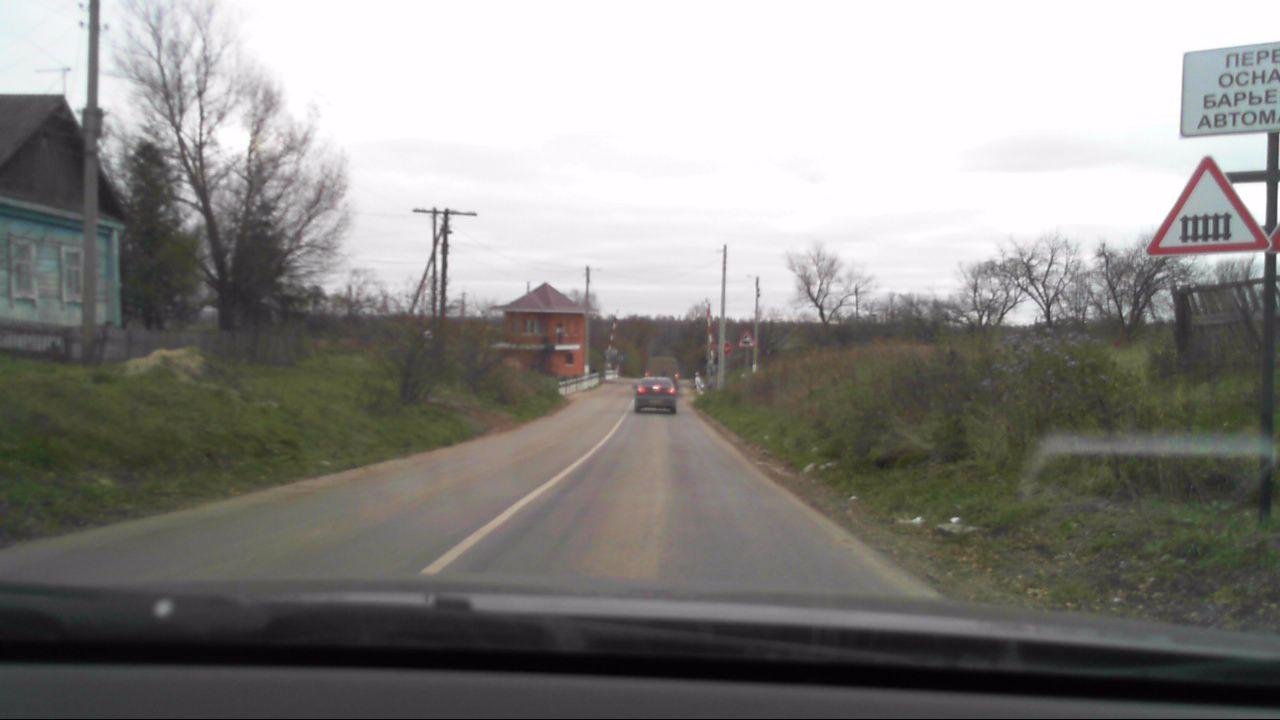1_1: (1151, 154, 1272, 254)
1_2: (736, 328, 756, 347)
